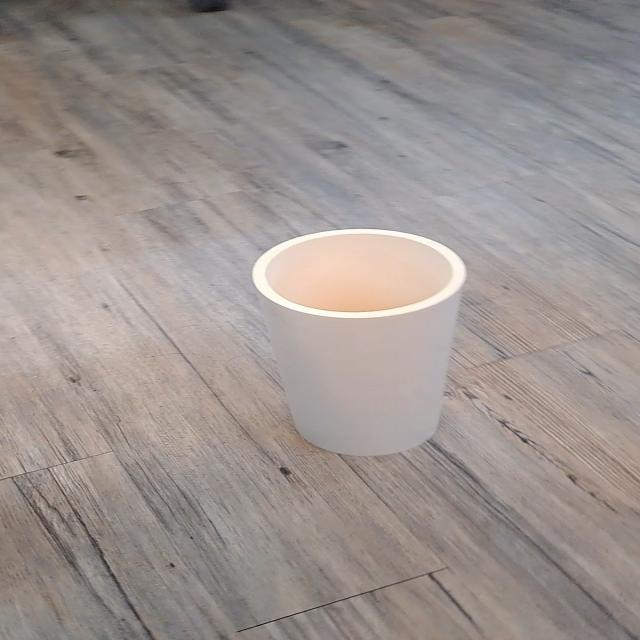CORAL: (214, 215, 492, 476)
